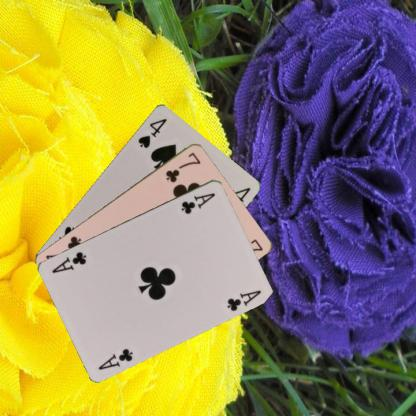4s: (135, 115, 168, 149)
7c: (163, 149, 202, 184)
Ac: (95, 345, 135, 371), (178, 190, 216, 216)
